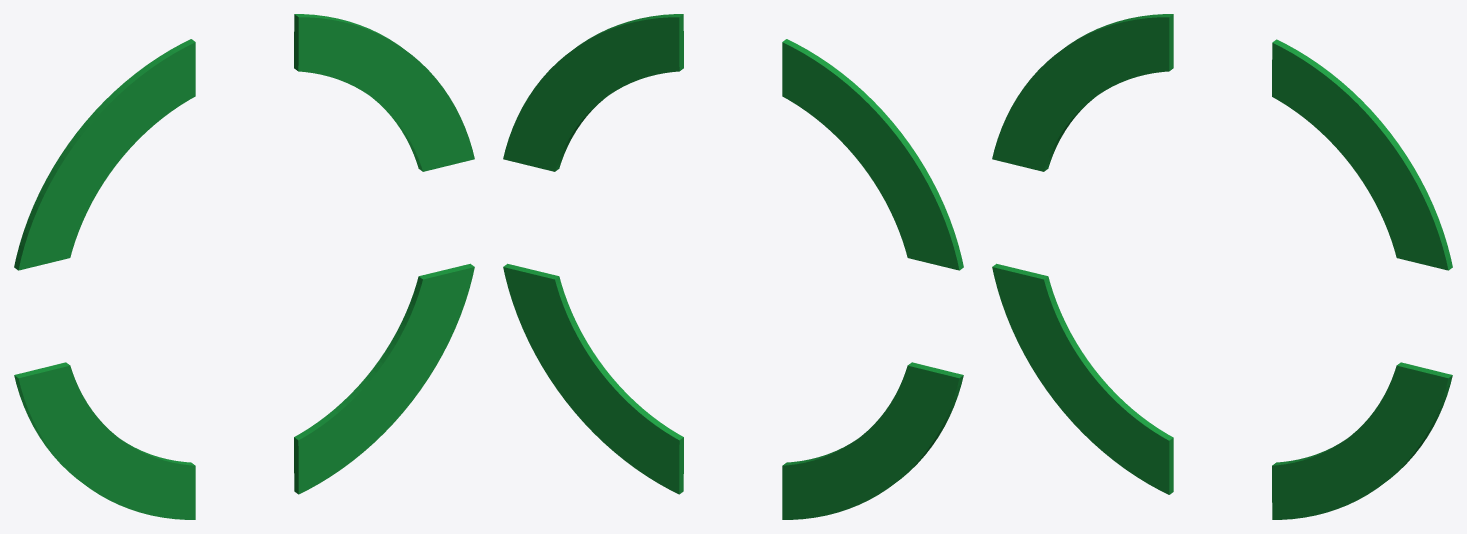
File: selector_OBJ.obj
The picture shows the model from 3 angles, left to right: view 1: azimuth 30°, elevation 25°; view 2: azimuth 150°, elevation 25°; view 3: azimuth 330°, elevation 25°; orthographic projection.
Visible parts, largest first — view 1: Object.1, Object.4, Object.2, Object.3; view 2: Object.1, Object.4, Object.2, Object.3; view 3: Object.2, Object.3, Object.1, Object.4.
Boxes of the visible parts, box(x1,y1,x2,y2) form: Object.1: box(14, 39, 195, 270); Object.4: box(294, 263, 474, 494); Object.2: box(14, 362, 195, 519); Object.3: box(294, 14, 474, 171); Object.1: box(782, 39, 963, 270); Object.4: box(503, 263, 683, 494); Object.2: box(782, 362, 963, 519); Object.3: box(503, 14, 683, 171); Object.2: box(992, 263, 1173, 494); Object.3: box(1272, 39, 1452, 270); Object.1: box(992, 14, 1173, 171); Object.4: box(1272, 362, 1452, 519).
Size of the model in its own units: 100737 by 100772 by 1703.
